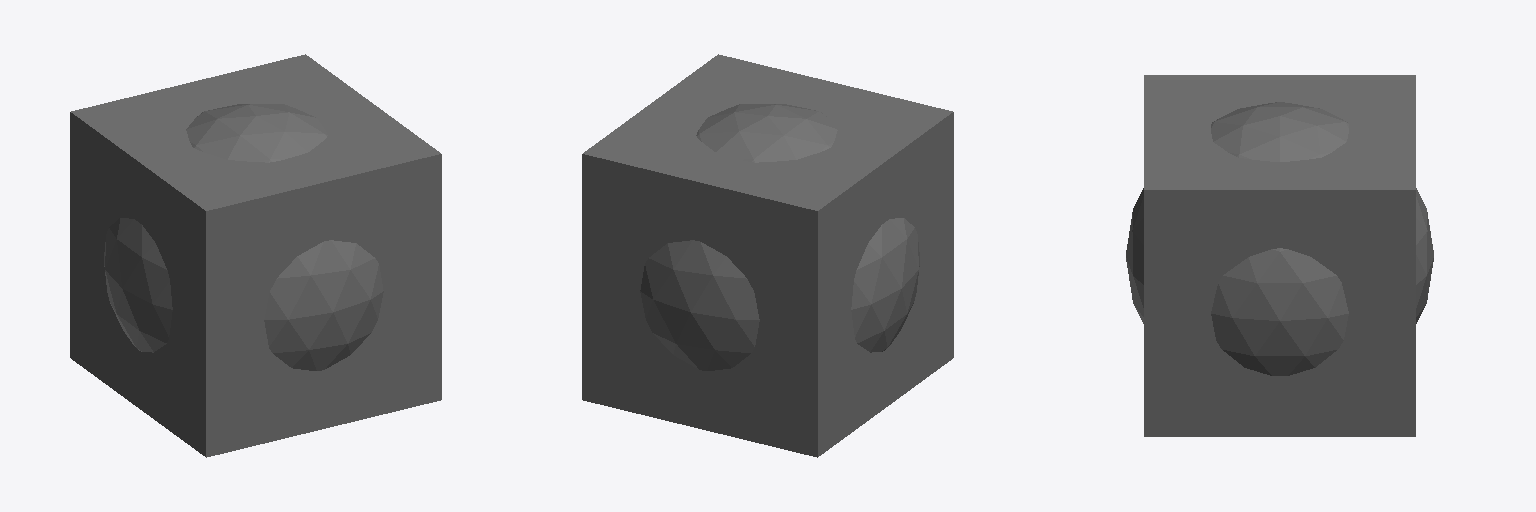
3 views of the same model, side by side, from view 1: azimuth 30°, elevation 25°; view 2: azimuth 150°, elevation 25°; view 3: azimuth 270°, elevation 25° (orthographic).
Parts seen in each view (by area): view 1: UCX_cannonball_00, cannonball; view 2: UCX_cannonball_00, cannonball; view 3: UCX_cannonball_00, cannonball.
Part boxes in pixels (left/top/right/bottom): UCX_cannonball_00: left=70, top=54, right=441, bottom=457; cannonball: left=104, top=104, right=383, bottom=370; UCX_cannonball_00: left=582, top=54, right=953, bottom=457; cannonball: left=640, top=104, right=919, bottom=370; UCX_cannonball_00: left=1144, top=75, right=1415, bottom=436; cannonball: left=1126, top=102, right=1433, bottom=375.
Size of the model in its own units: 2.55 by 2.55 by 2.55.
1 materials, 1 textured.